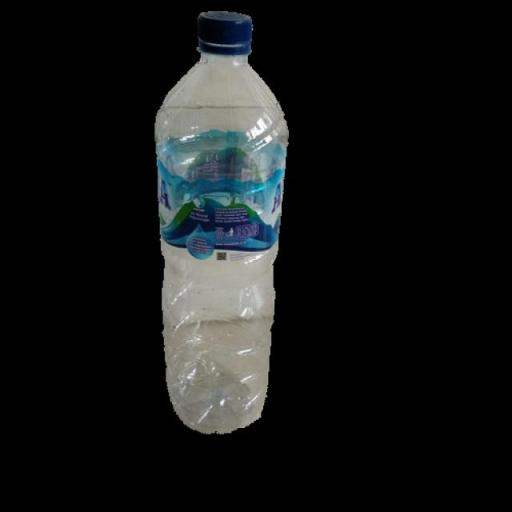plastic: (151, 10, 292, 436)
